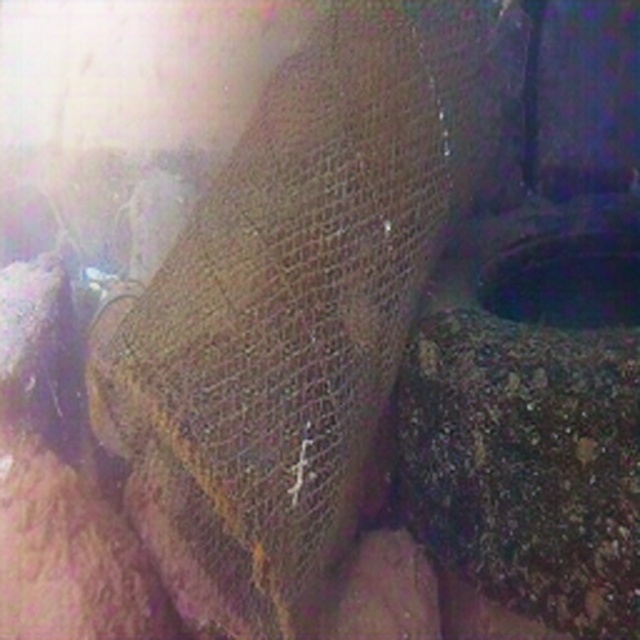mine: (89, 0, 501, 640), (384, 190, 640, 639)
